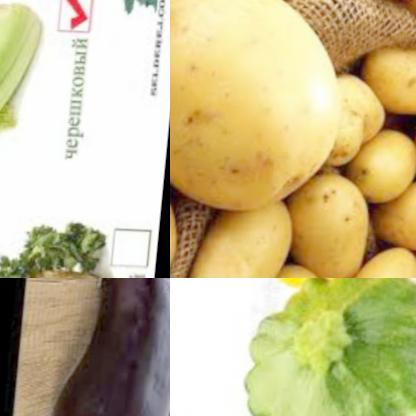celery: (0, 0, 56, 158)
eggplant: (53, 278, 170, 416)
potato: (170, 0, 348, 209), (189, 161, 316, 278), (286, 168, 377, 278), (328, 61, 395, 171), (359, 119, 416, 207), (360, 29, 416, 113), (170, 143, 203, 278), (344, 229, 416, 278), (248, 252, 338, 278), (384, 181, 416, 245), (339, 0, 416, 9)
squash-patisson: (239, 278, 416, 416)
